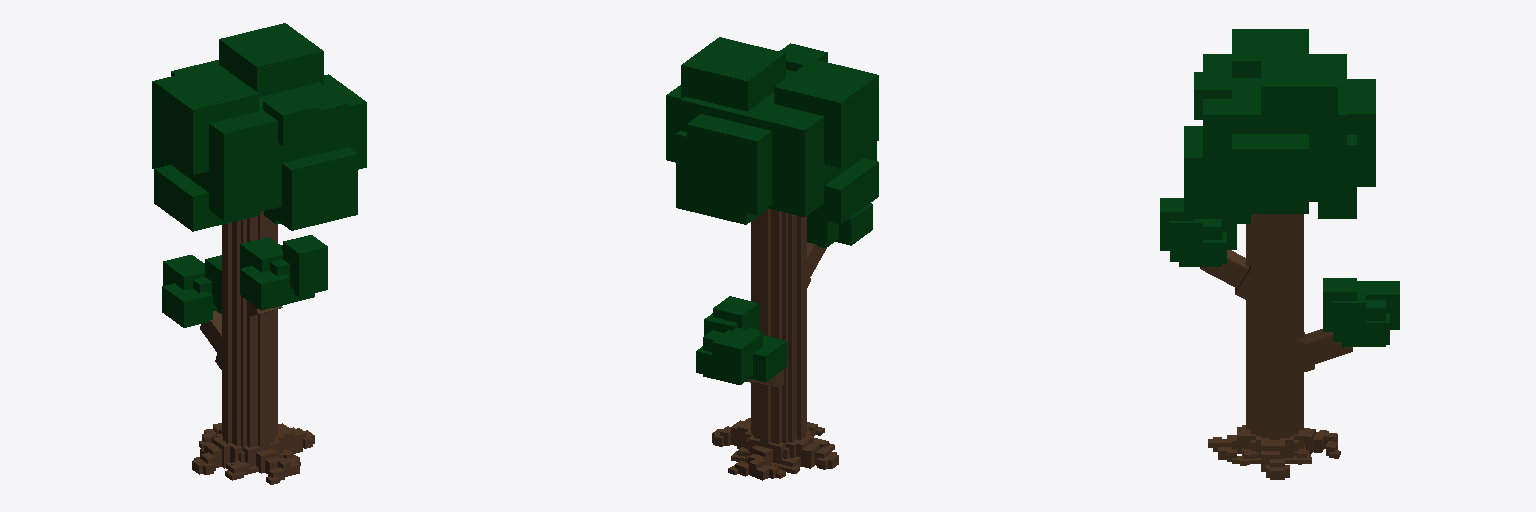
3 renders of one model, left to right at view 1: azimuth 30°, elevation 25°; view 2: azimuth 150°, elevation 25°; view 3: azimuth 270°, elevation 25°, orthographic.
Visible parts, largest first — view 1: cube; view 2: cube; view 3: cube.
Boxes of the visible parts, box(x1,y1,x2,y2) form: cube: box(152, 23, 366, 484); cube: box(666, 37, 878, 480); cube: box(1160, 29, 1399, 479).
Size of the model in its own units: 2.62 by 5.69 by 3.12.
1 materials, 1 textured.